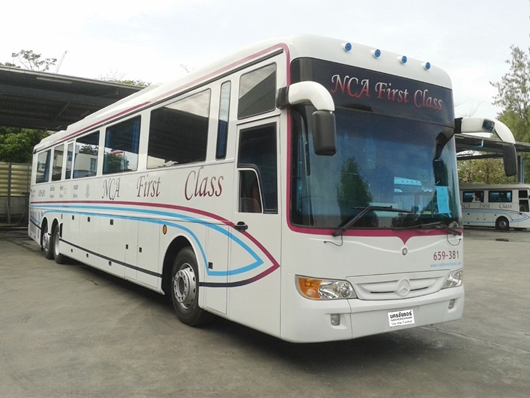bus: (29, 33, 466, 344)
